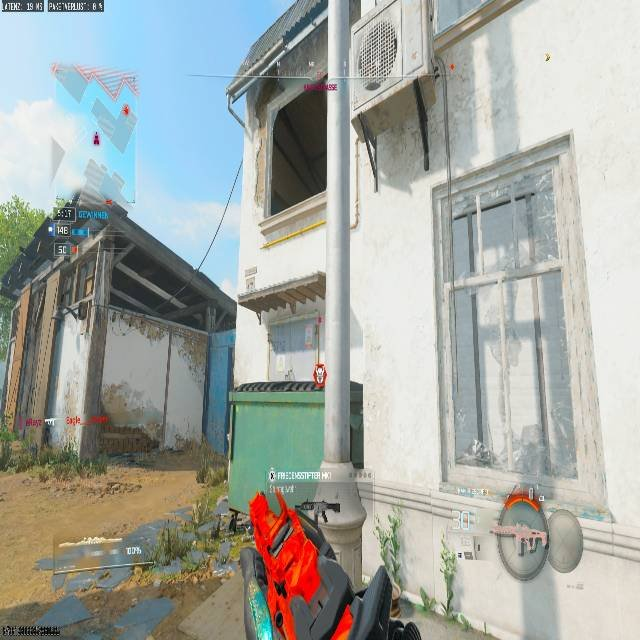player: (311, 498, 329, 524)
